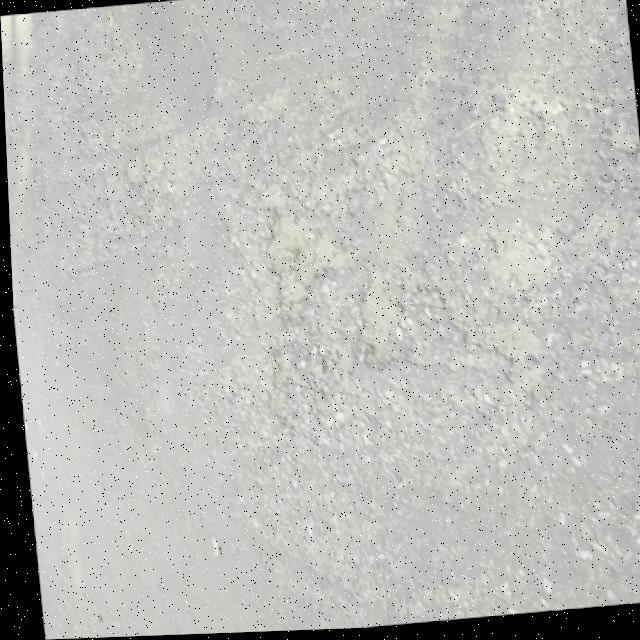pothole: (248, 178, 411, 388)
